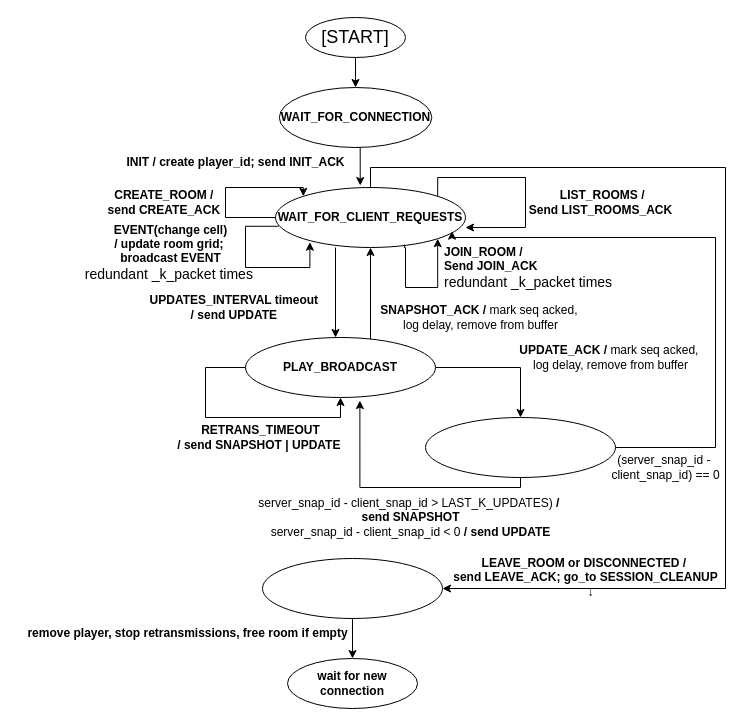
The diagram is 751 pixels wide and 726 high, and some of its shapes have lost their labels. Each missing label, with the box of its shape:
CHECK_UPDATE_ACK: (424, 416, 616, 478)
SESSION_CLEANUP: (262, 558, 442, 618)
